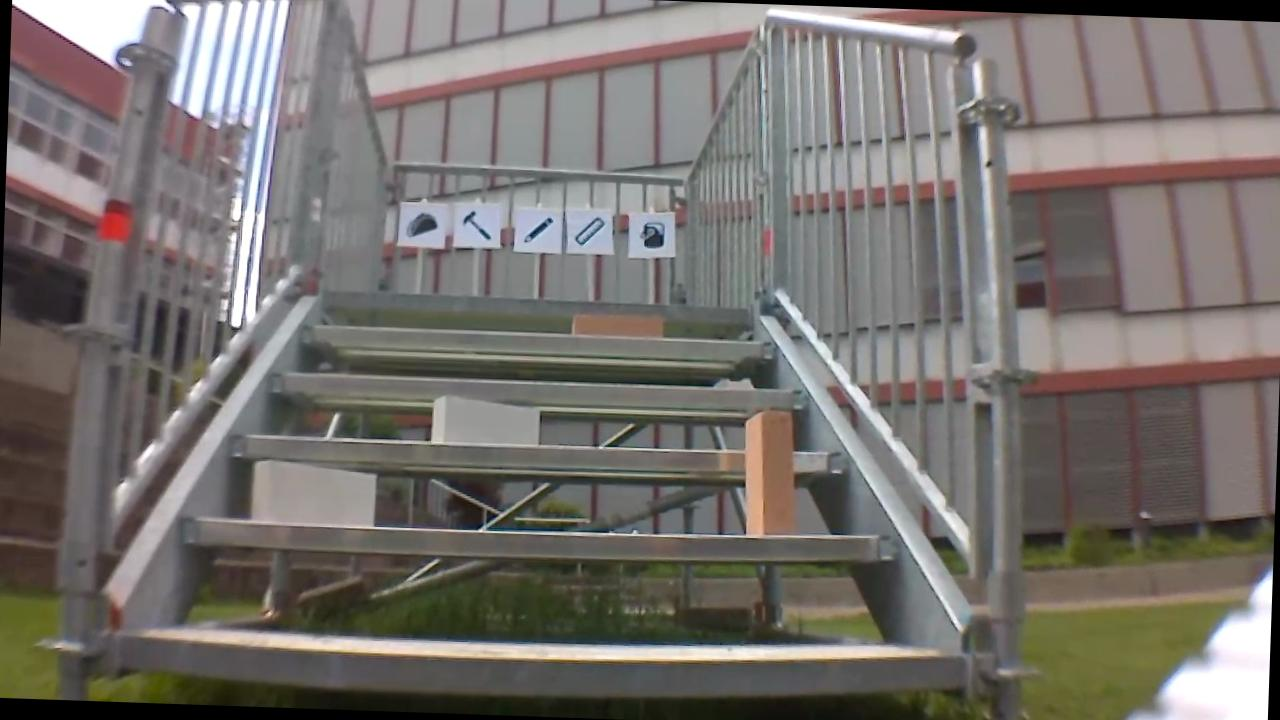brick: (253, 460, 376, 527), (742, 410, 797, 537), (430, 394, 538, 445), (569, 312, 662, 336)
bucket: (634, 214, 667, 250)
edge: (121, 623, 967, 706), (180, 511, 899, 569), (229, 429, 846, 477), (268, 370, 813, 412), (299, 325, 776, 359), (319, 289, 755, 323)
hammer: (453, 209, 495, 243)
pencil: (516, 212, 556, 245)
ruler: (568, 210, 606, 247)
steps: (114, 277, 988, 719)
taco: (403, 207, 440, 241)
